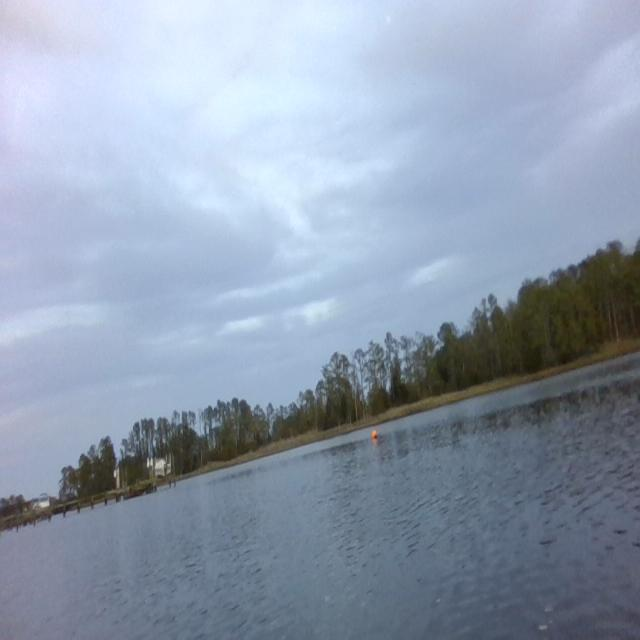Buoy: (371, 427, 378, 442)
